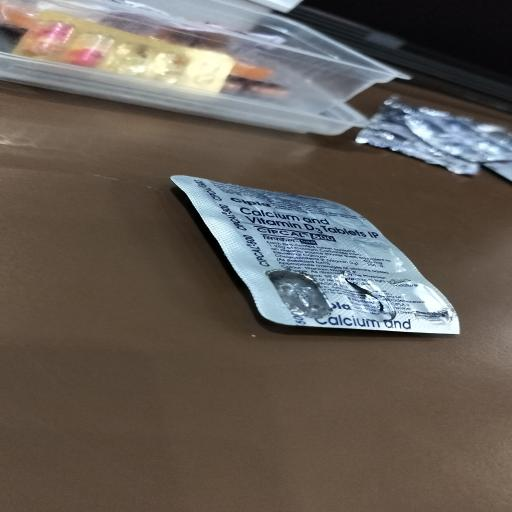cipcal: (246, 224, 345, 246)
medicine: (170, 172, 466, 337)
